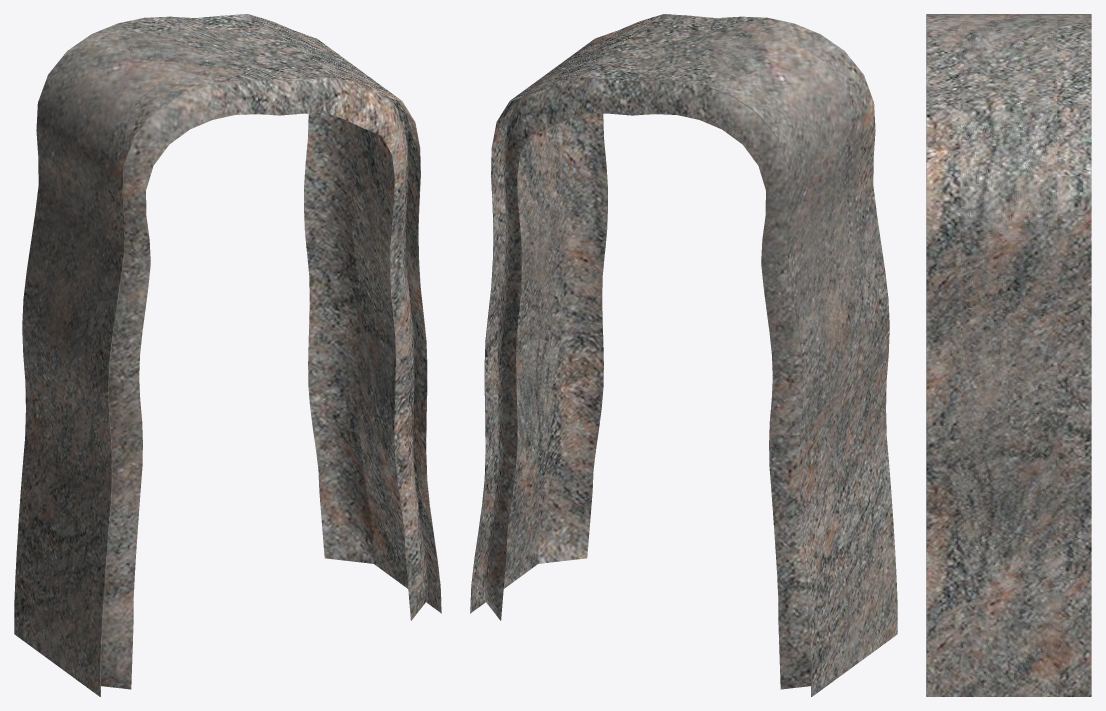
Rendered from stone3.glb.
The picture shows the model from 3 angles, left to right: view 1: azimuth 30°, elevation 25°; view 2: azimuth 150°, elevation 25°; view 3: azimuth 270°, elevation 25°; orthographic projection. The views are drawn at different scales.
Visible parts, largest first — view 1: big, small; view 2: big, small; view 3: small, big.
Boxes of the visible parts, <box> form: big: <box>32,27,427,689</box>; small: <box>14,14,441,696</box>; big: <box>484,27,879,689</box>; small: <box>470,14,897,696</box>; small: <box>926,14,1091,696</box>; big: <box>960,14,1057,696</box>.
Bounding box in the file's own units: 0.5495 × 0.8996 × 0.24.
Materials: 1 (1 with a texture image).
